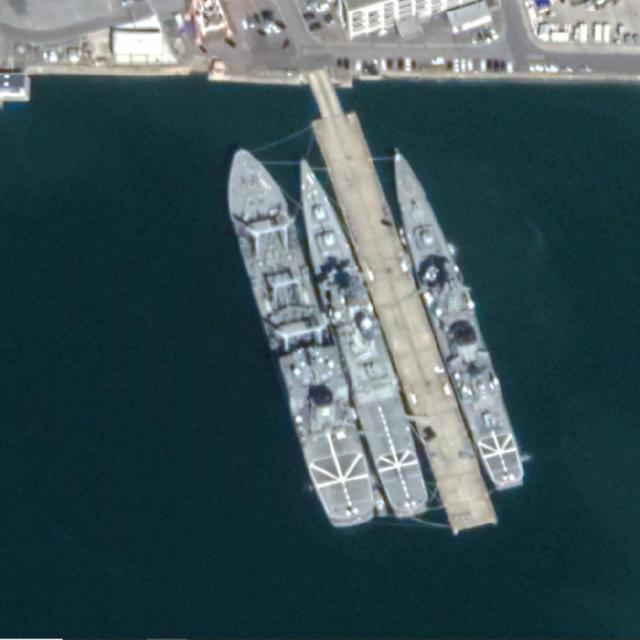Auxiliary Ships: (210, 140, 386, 533)
Destroyer: (272, 151, 442, 520), (372, 140, 534, 495)
